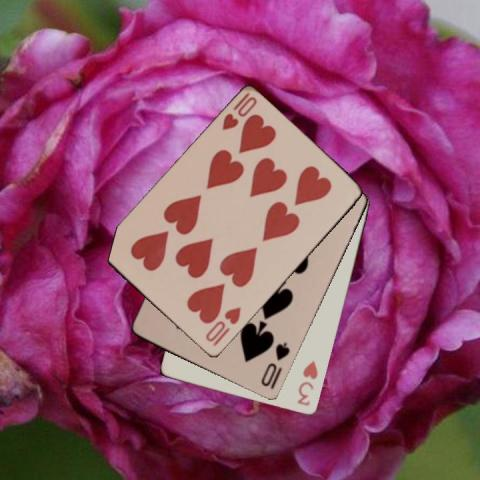10h: (202, 304, 243, 348), (218, 89, 258, 133)
10s: (258, 340, 291, 389)
3h: (294, 358, 319, 407)
